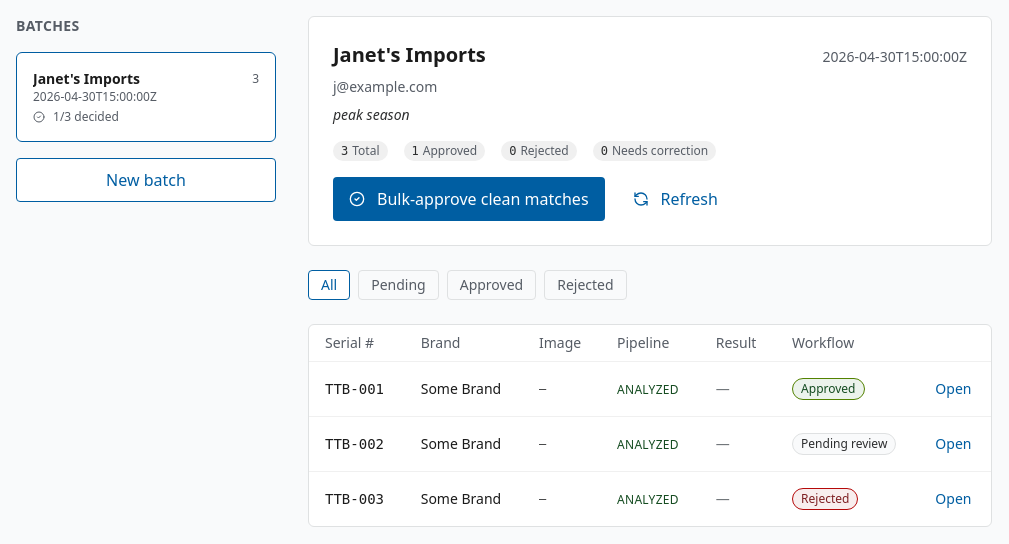
Test: <QueuePage> › filters applications by workflow status
The width and height of the screenshot is (1009, 544).
Expected: the table with test id "applications-table" is shown, [309,325,991,526]
Click the tab with test id "filter-approved": (491, 285) [447,270,536,300]
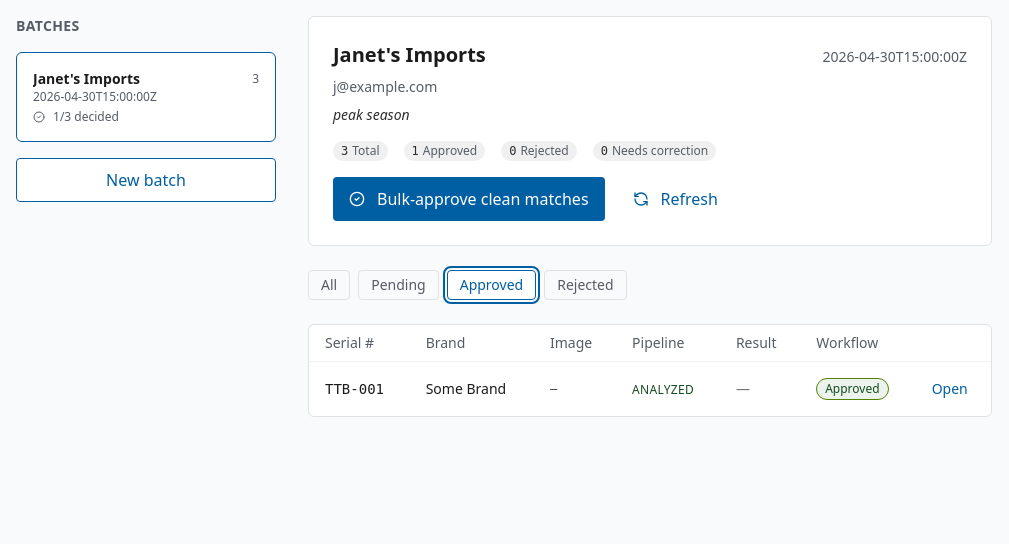
Expected: the text "TTB-001" is shown, [309,362,410,416]
Expected: the text "TTB-002" is gone
Expected: the text "TTB-003" is gone
